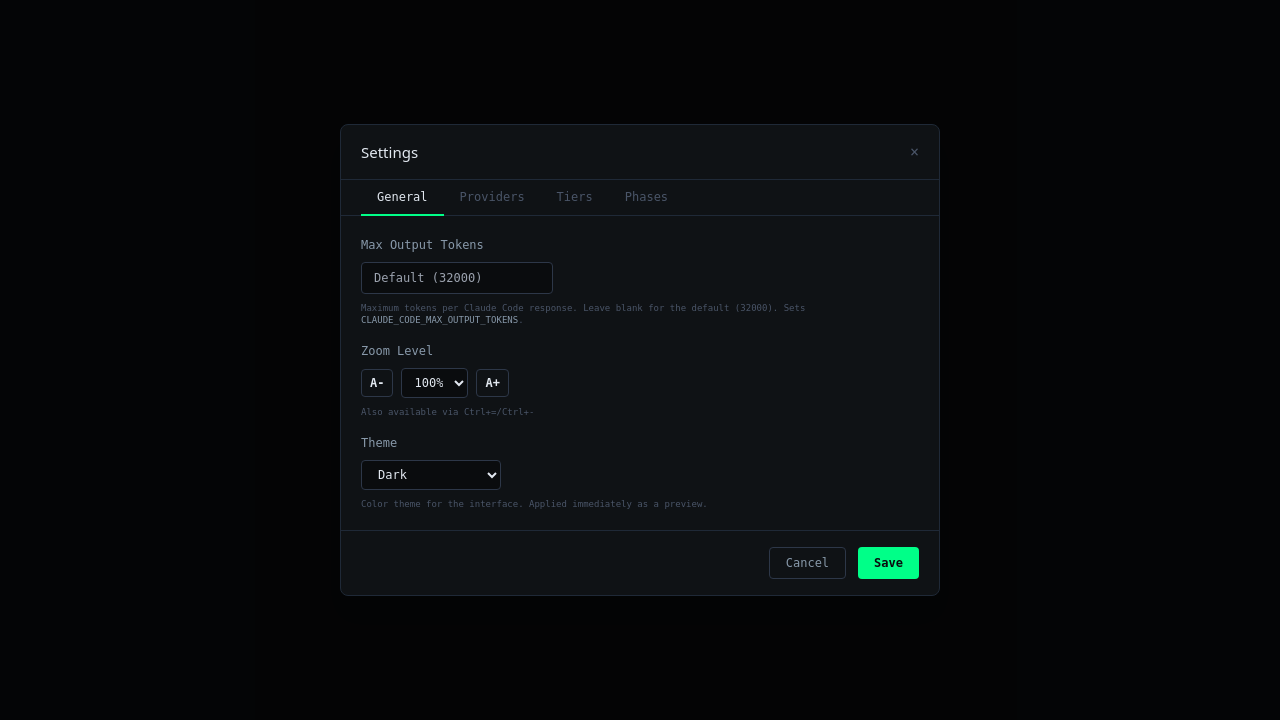
Test: SettingsDialog › toggles a phase between tier and custom mode
Expected: the element with test id "tab-general" is shown, [361, 238, 805, 509]
Click the button "Phases": x=646, y=198 [609, 180, 684, 216]
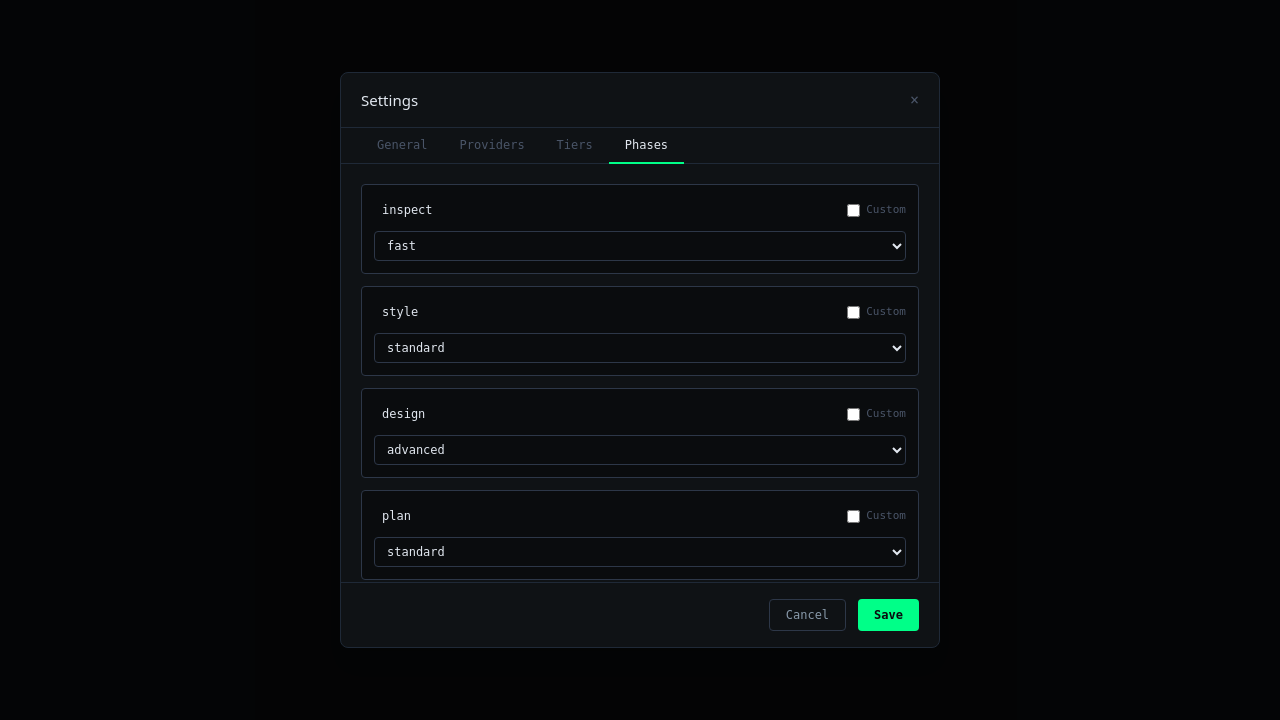
Expected: the dropdown with test id "phase-tier-inspect" is shown, [374, 231, 906, 261]
Toggle to custom
Click the checkbox with test id "phase-custom-toggle-inspect": x=854, y=210 [847, 204, 860, 216]
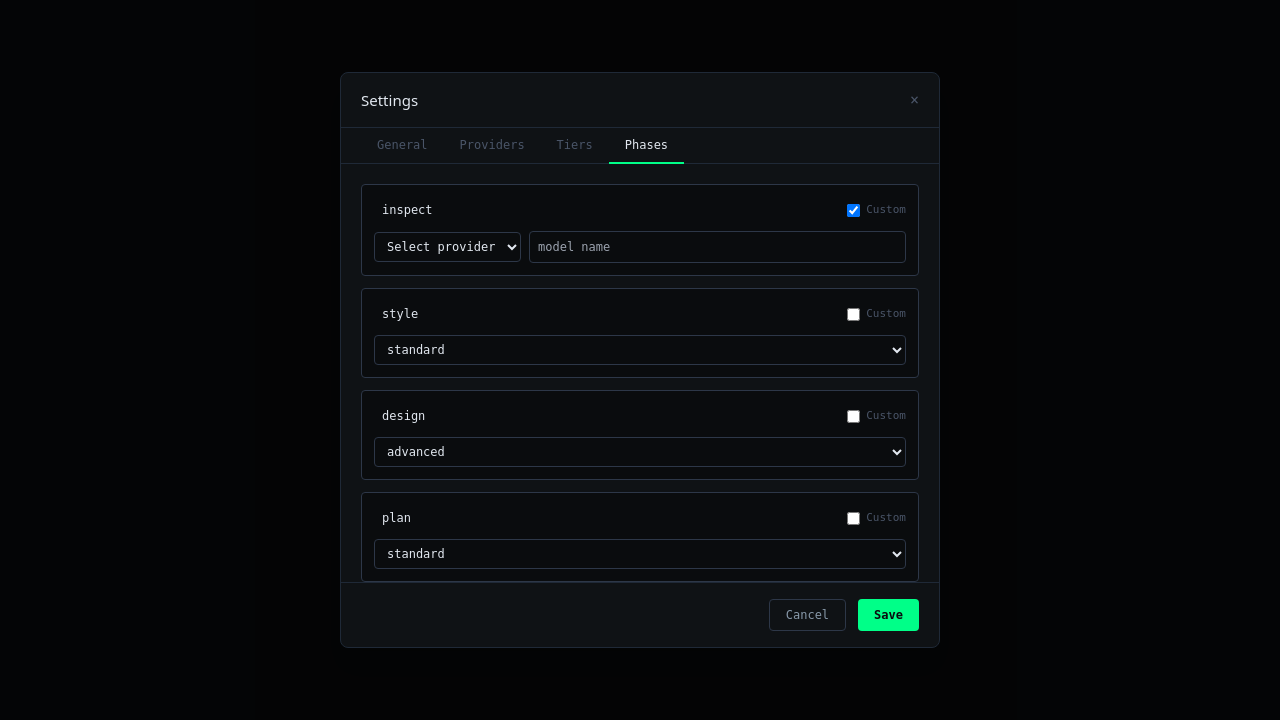
Expected: the dropdown with test id "phase-provider-inspect" is shown, [374, 232, 521, 262]
Expected: the field with test id "phase-model-inspect" is shown, [529, 231, 906, 263]
